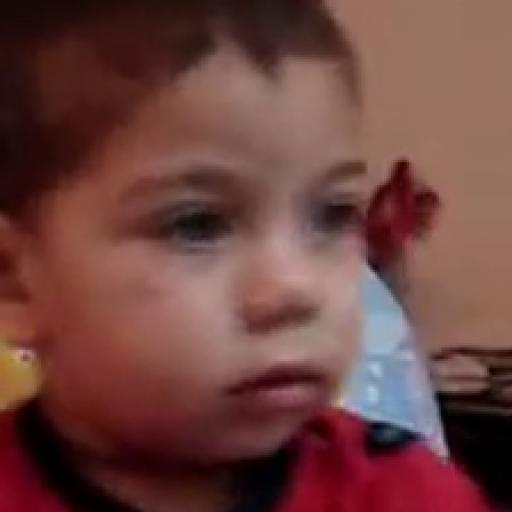Autism: (44, 40, 512, 512)
